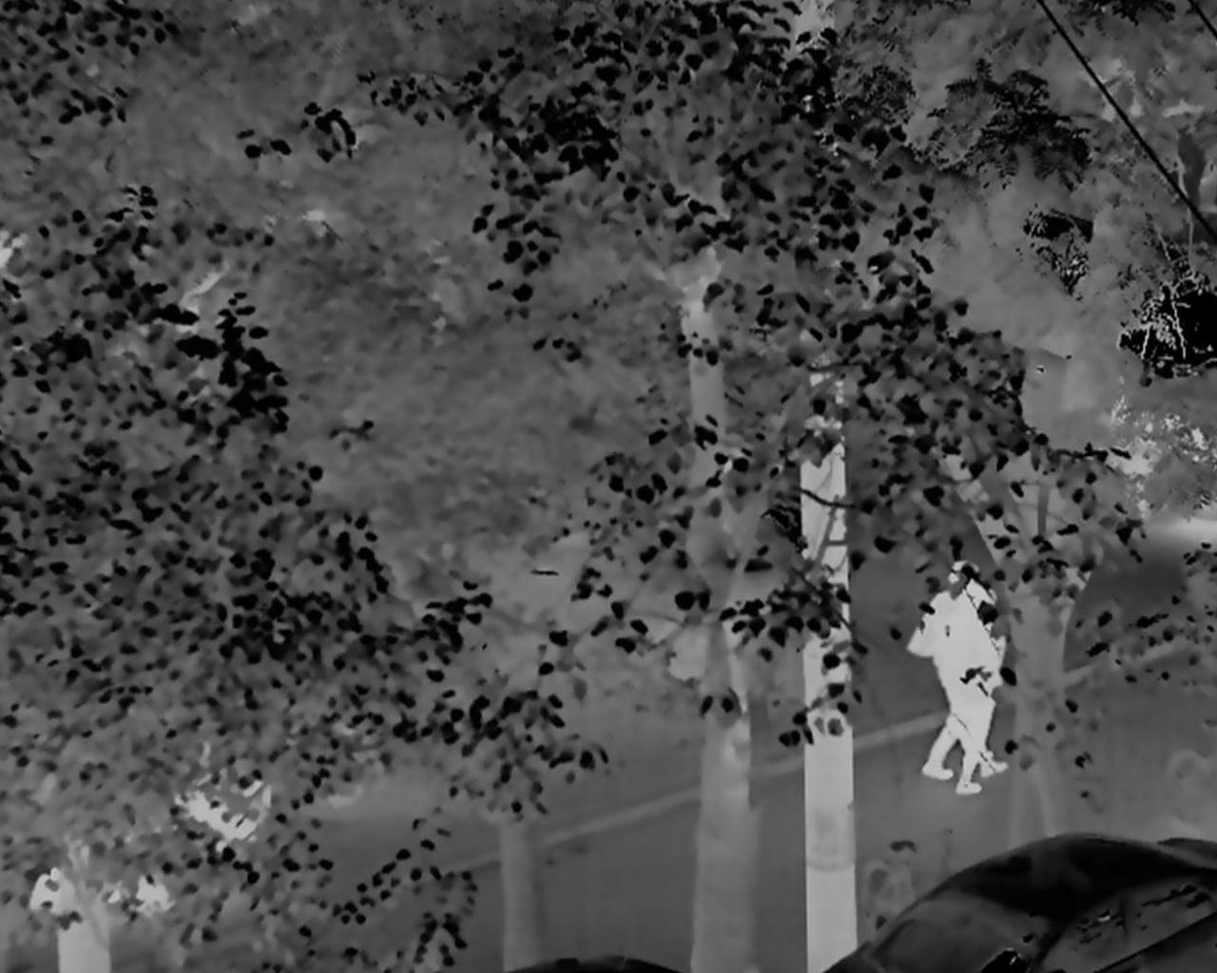person: (916, 563, 1014, 796)
